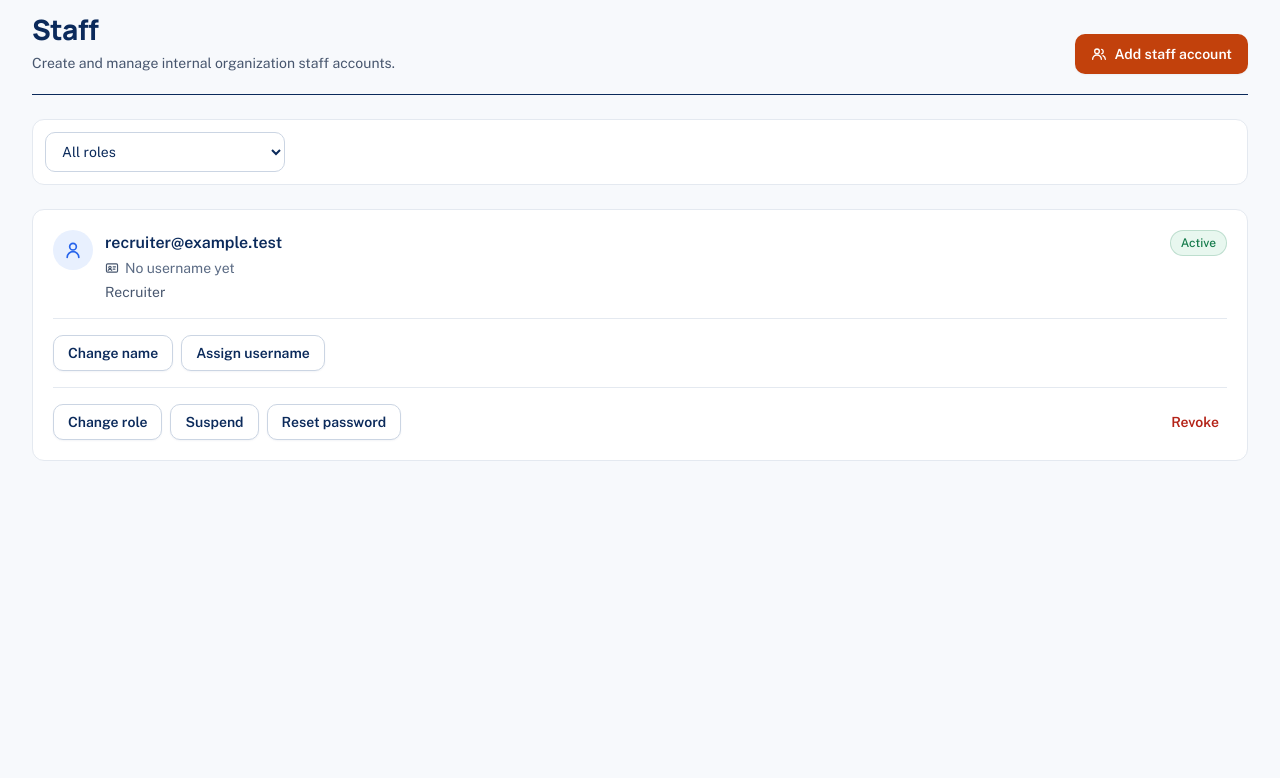
StaffPage (organization) › shows a mapped error when the email already exists
The image size is (1280, 778).
Click the button "Add staff account": point(1161, 54) [1074, 34, 1248, 74]
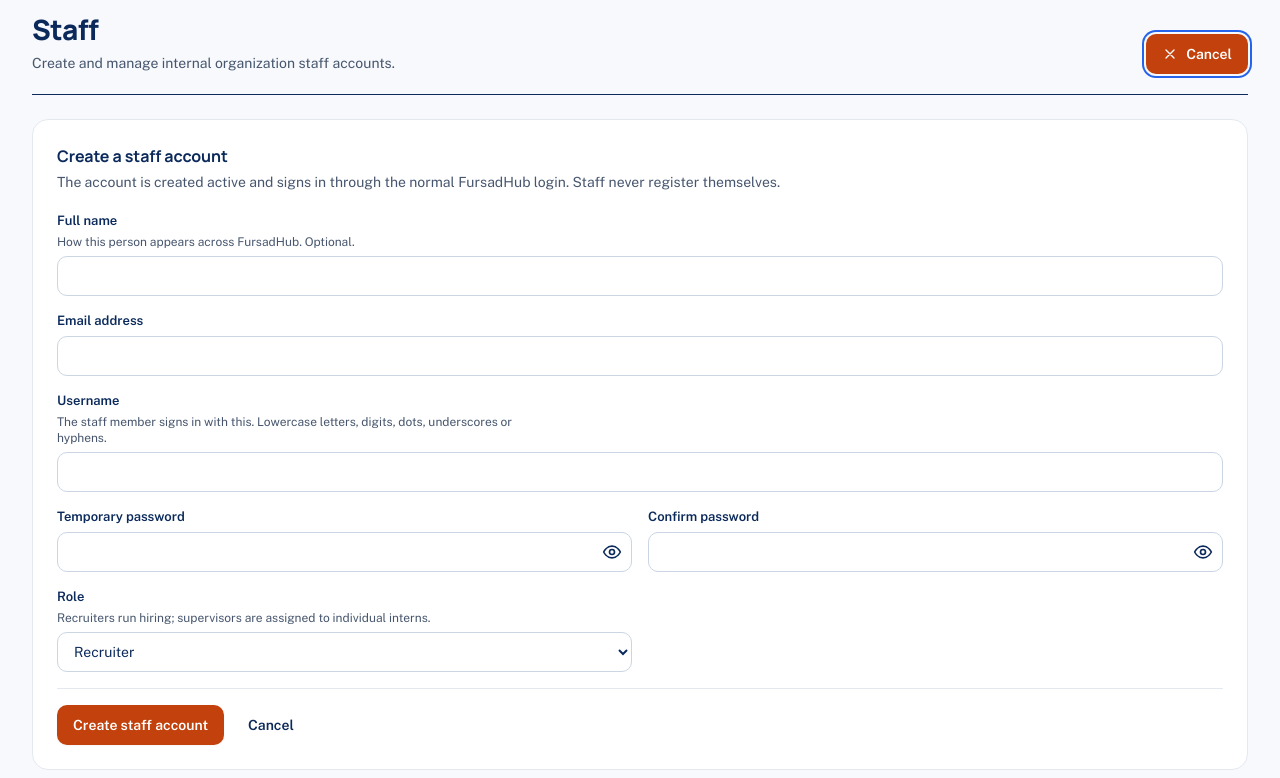
In the field labelled "Email address": point(640, 356) [57, 336, 1223, 376], type "dup@example.test"
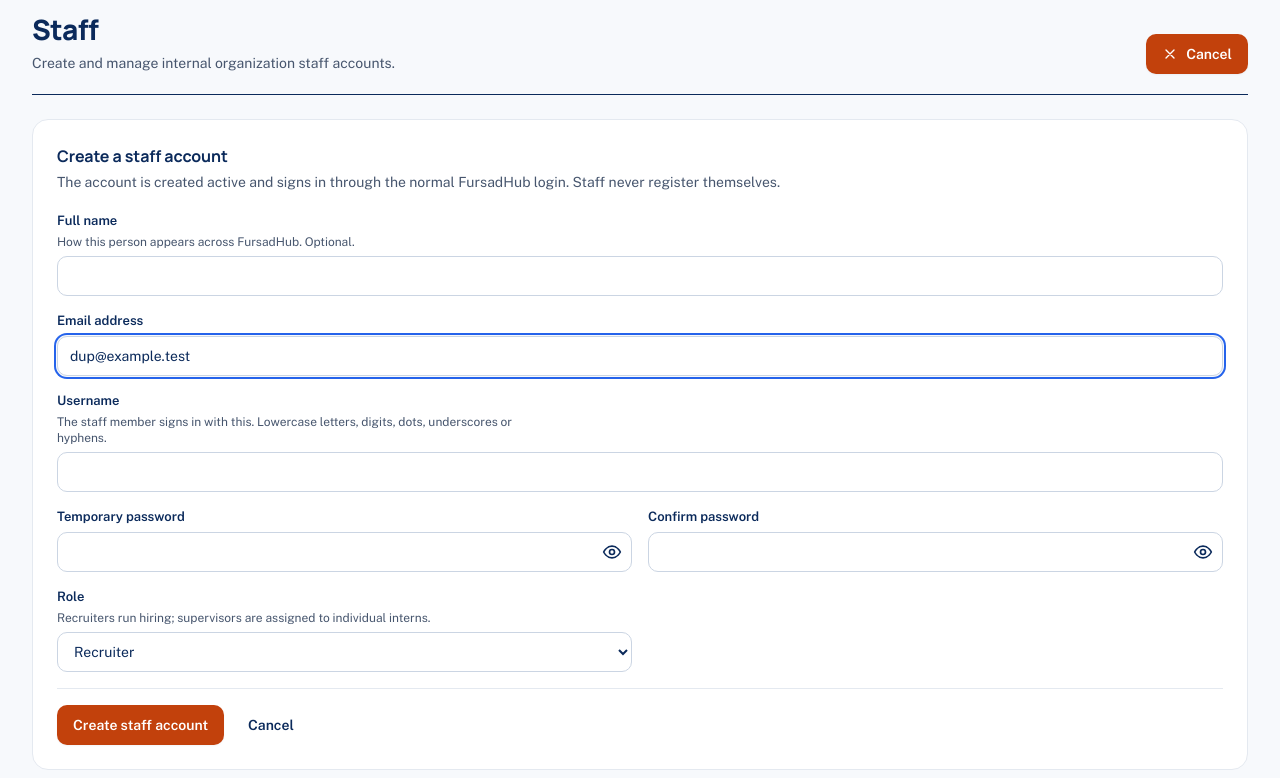
In the field labelled "Username": point(640, 472) [57, 452, 1223, 492], type "new.staff"
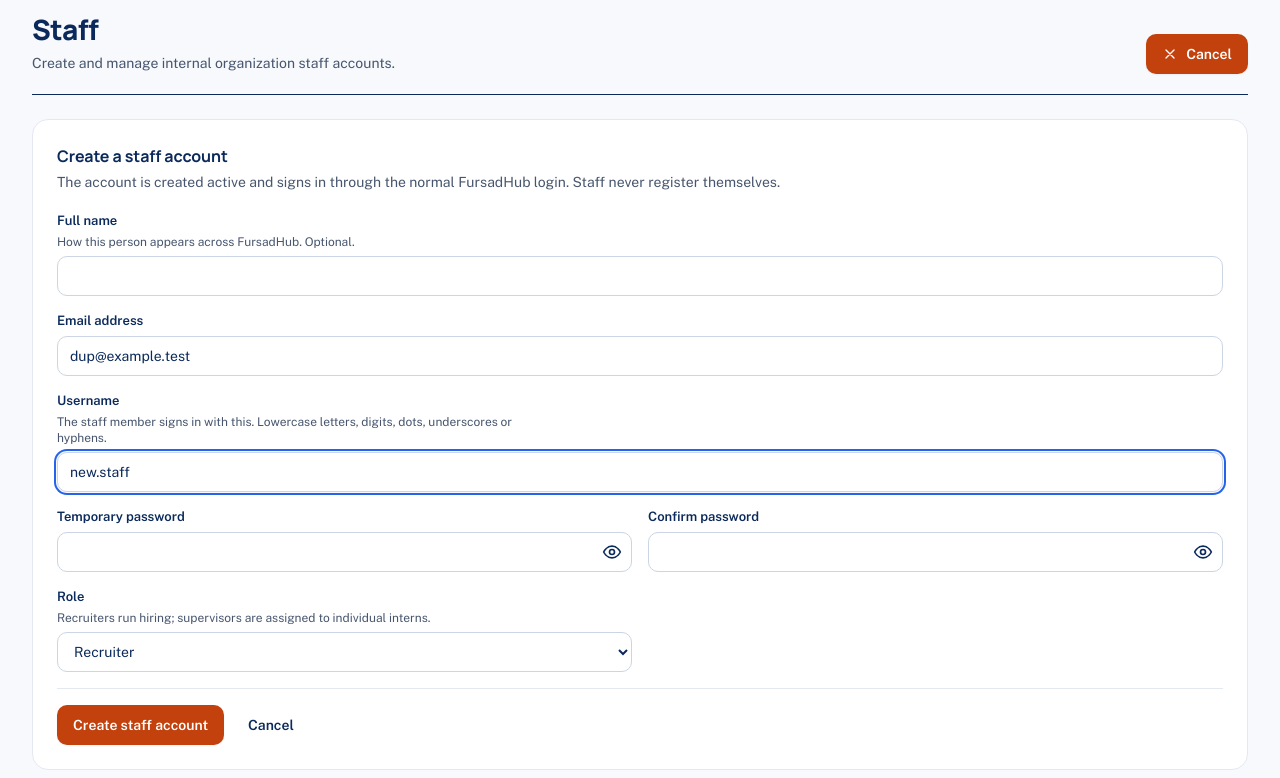
In the password field labelled "Temporary password": point(344, 552) [57, 532, 632, 572], type "Password123"
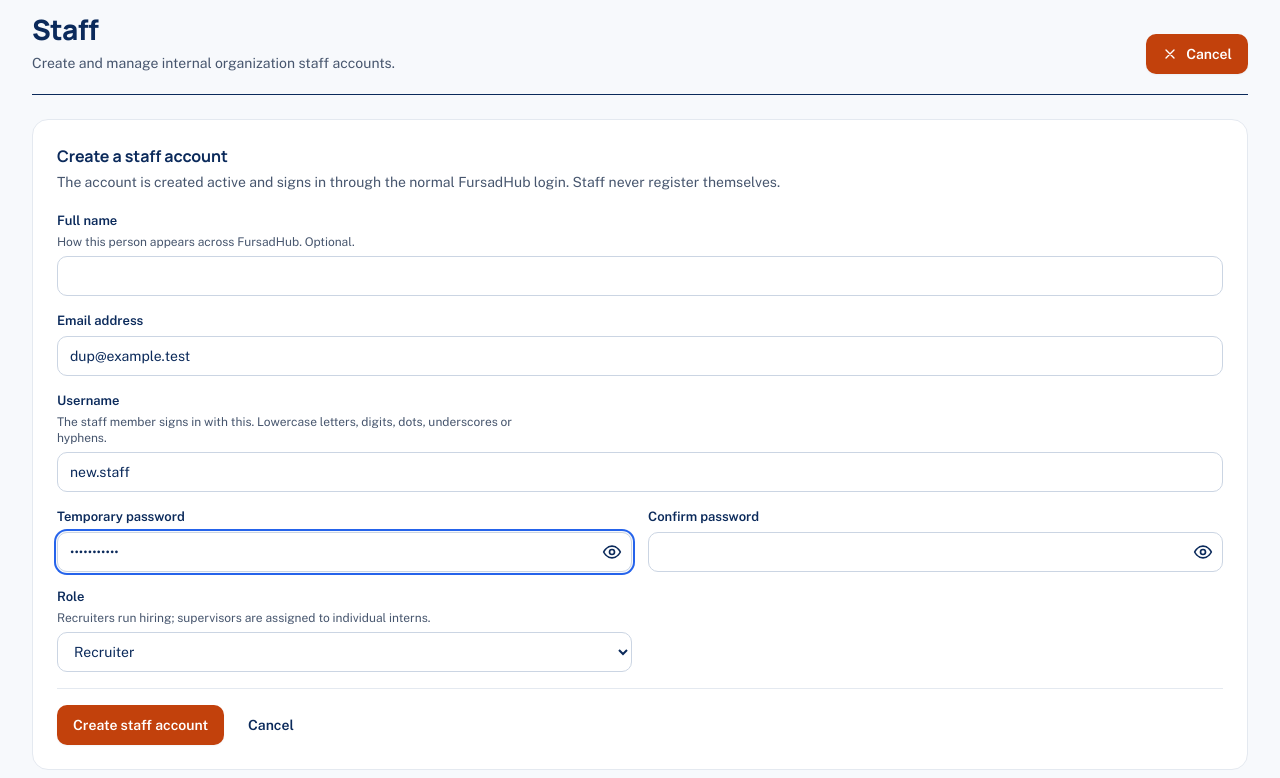
In the password field labelled "Confirm password": point(936, 552) [648, 532, 1223, 572], type "Password123"
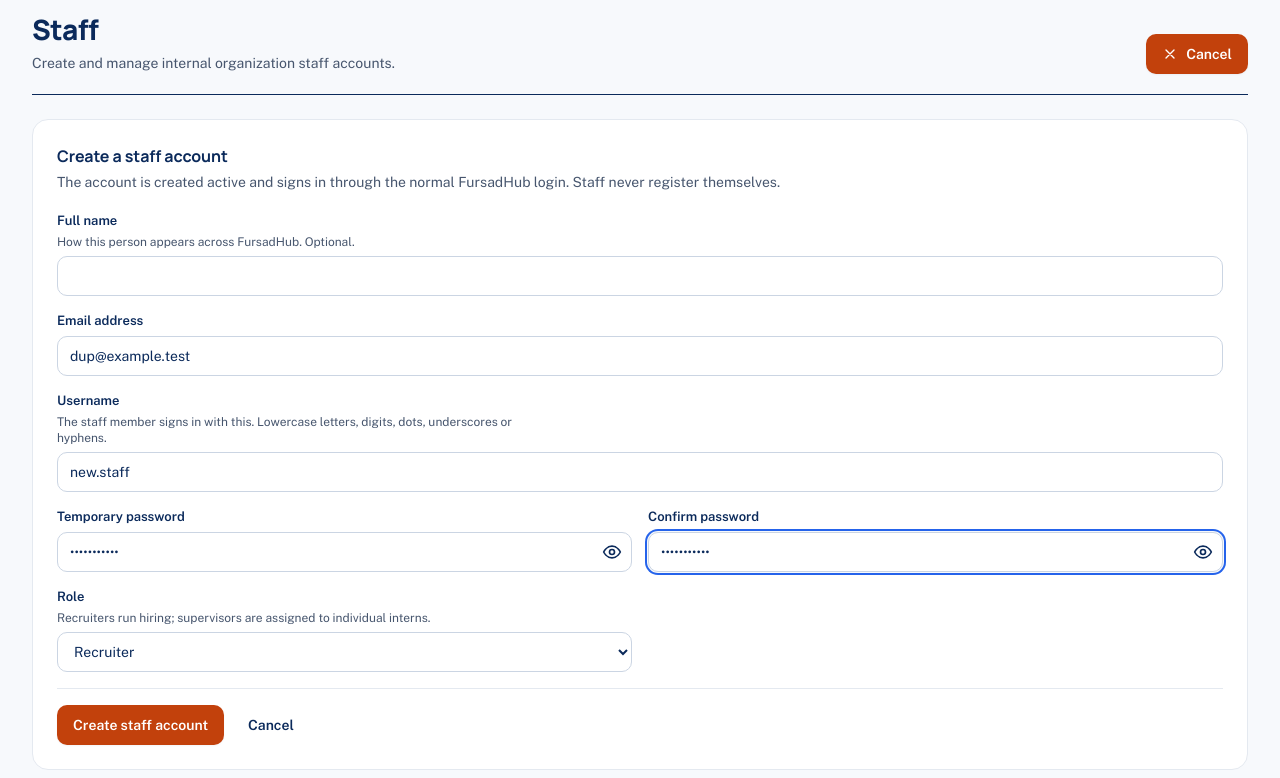
Click the button "Create staff account": point(141, 725) [57, 705, 224, 745]
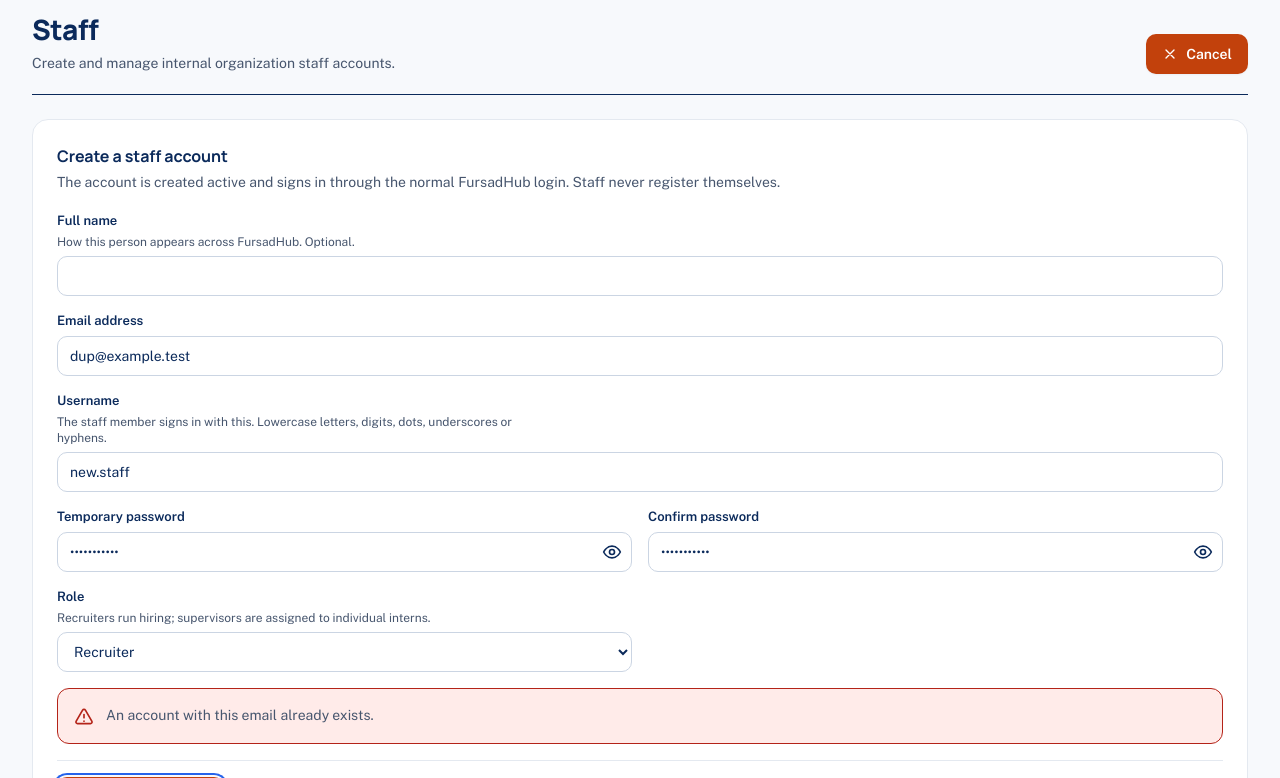
Expected: the message reads "An account with this email already exists.", [106, 707, 374, 723]
